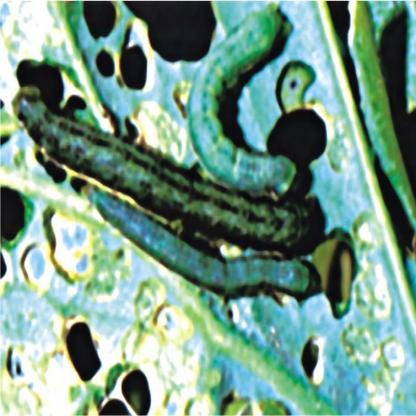armyworm: (10, 77, 305, 260), (75, 173, 321, 308), (187, 4, 302, 196)
